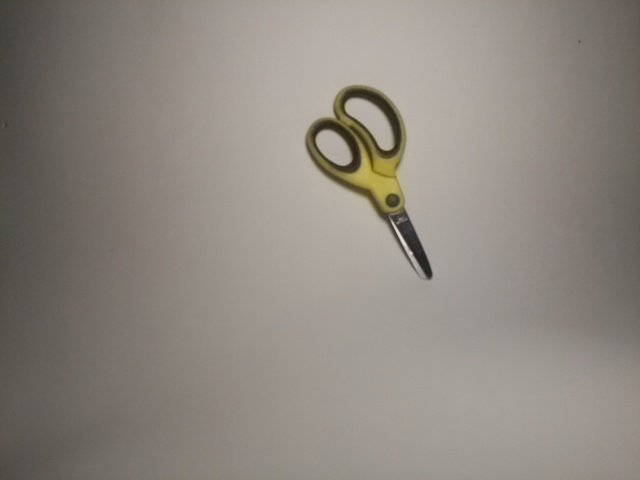Tesoura: (291, 79, 448, 287)
